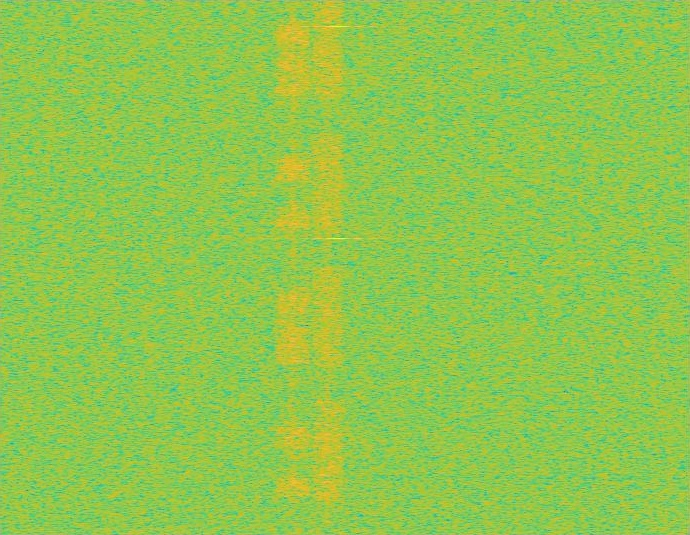5G: (311, 0, 345, 534)
DSSS: (291, 0, 296, 534), (325, 0, 330, 534)
LTE: (276, 0, 311, 534)
Radar: (331, 0, 345, 534)
